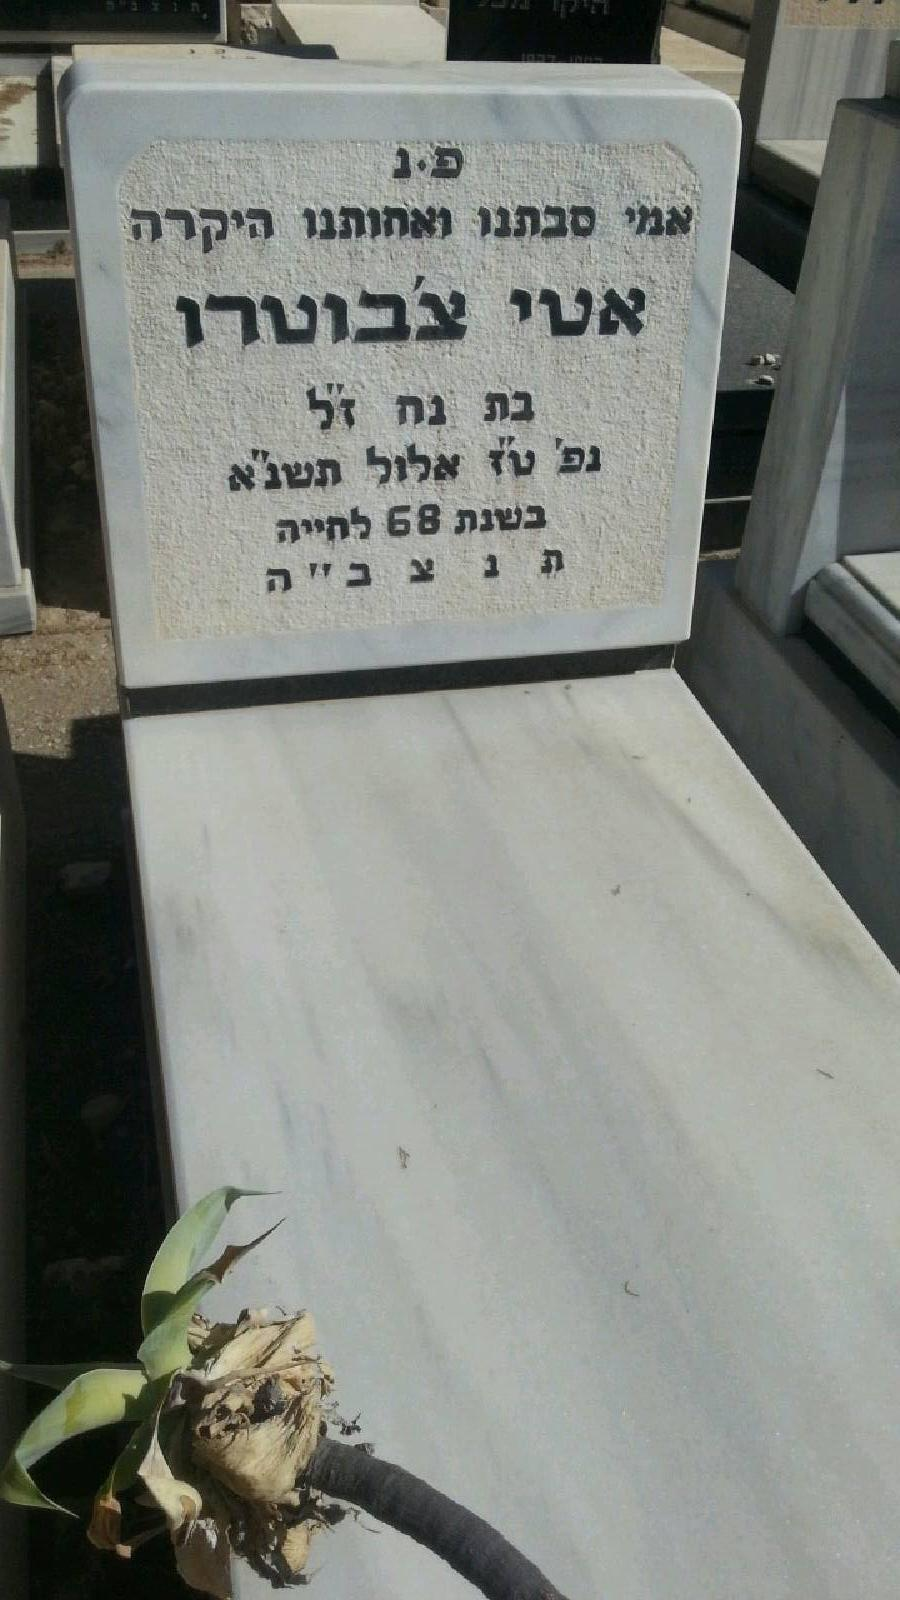vault: (55, 43, 900, 1600)
